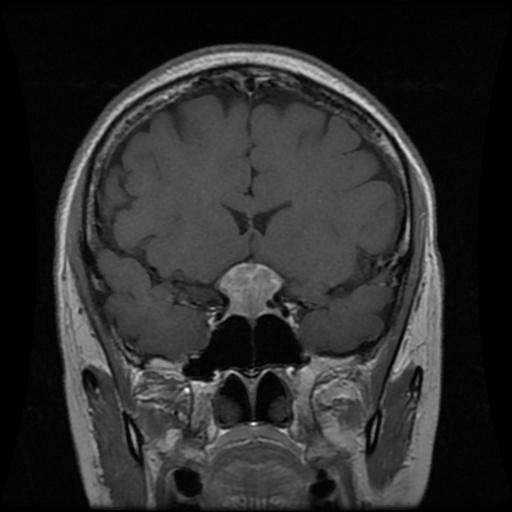pituitary: (216, 262, 281, 317)
